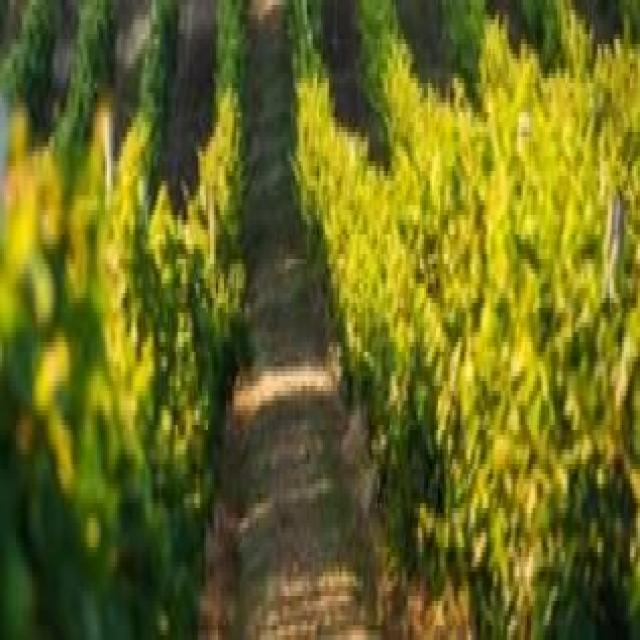row: (205, 2, 447, 640), (314, 0, 425, 204)
